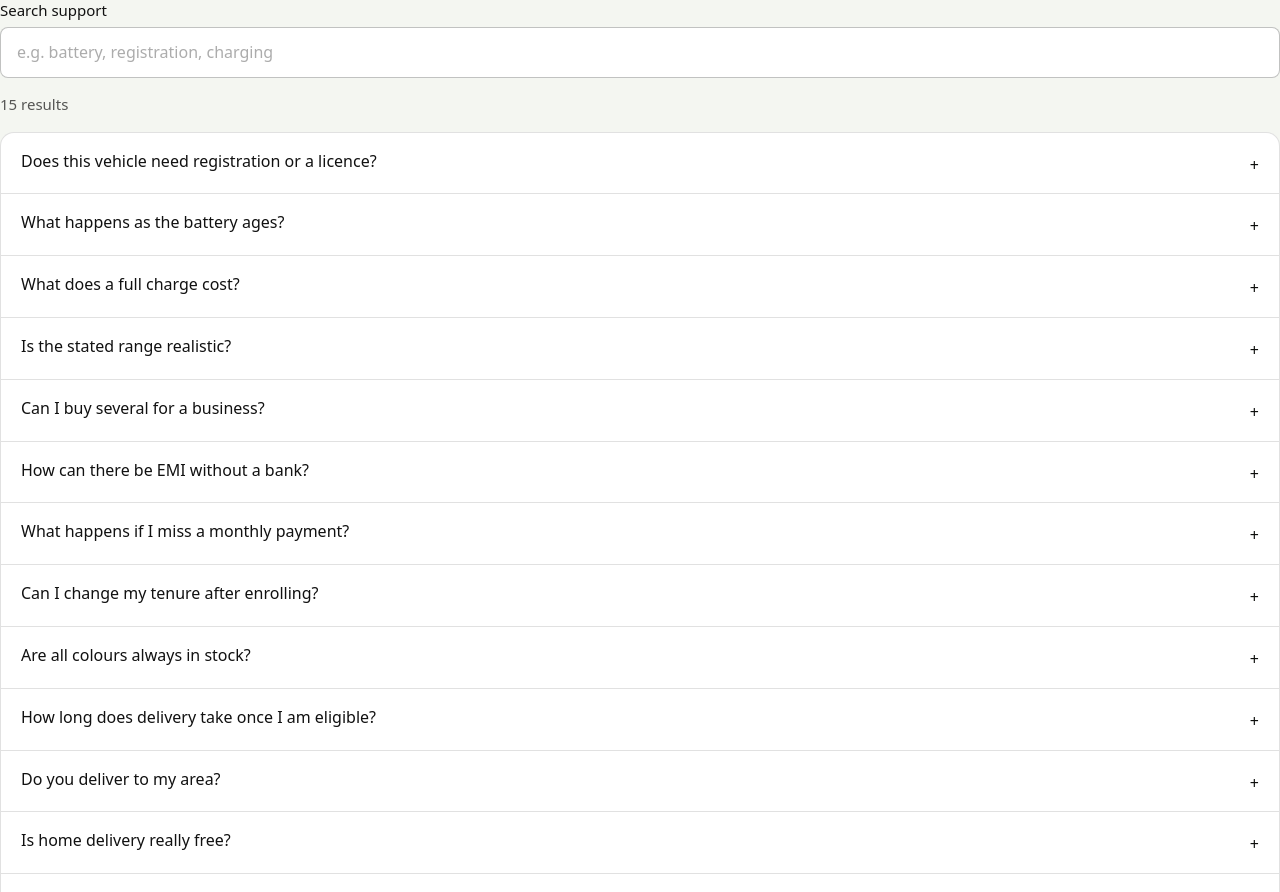
Test: FaqSearch › offers a way out when nothing matches, rather than a blank panel
The width and height of the screenshot is (1280, 892).
Step 1. Type "zzzzqqq" into the search field → point(640, 53), box [0, 27, 1279, 78]
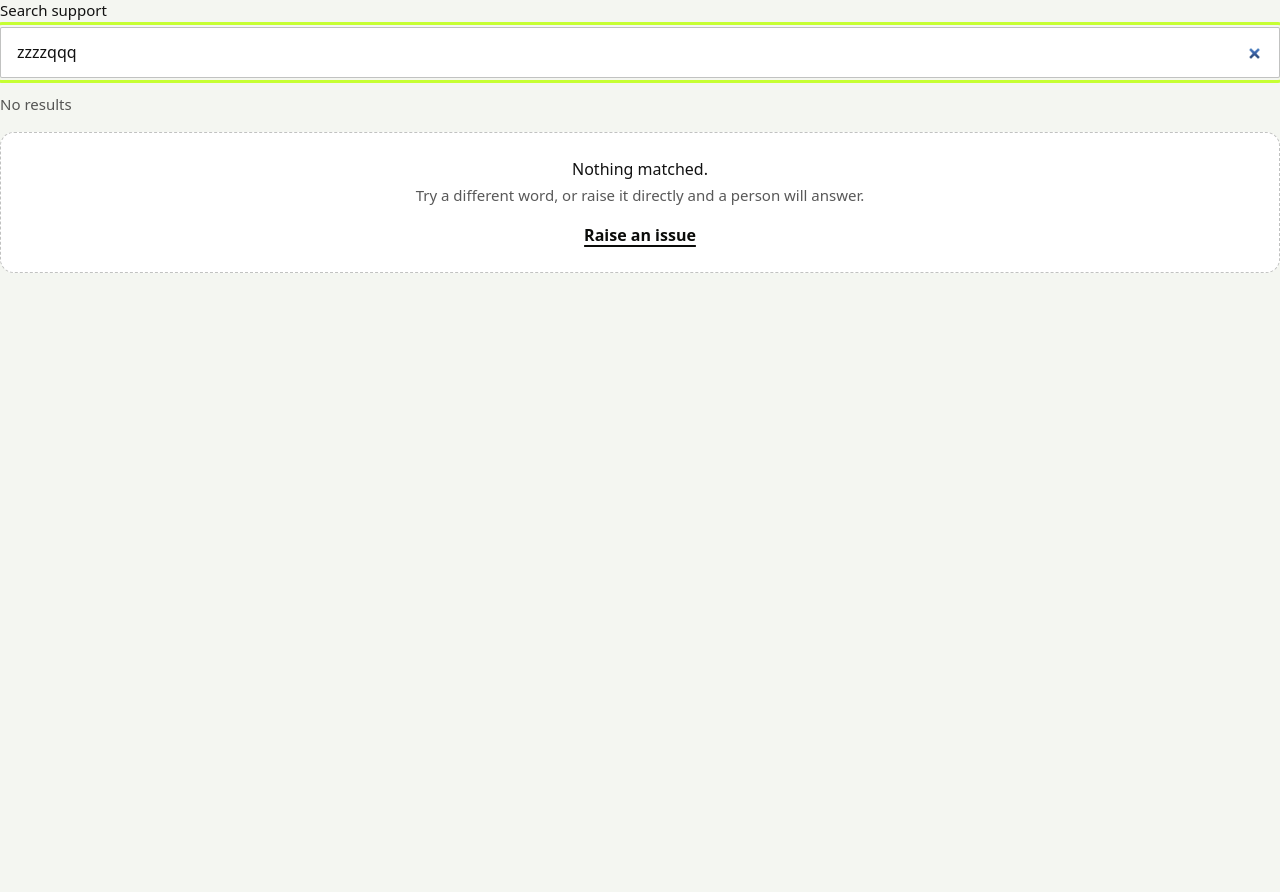
Result: the text "Nothing matched." is shown at [572, 158, 708, 180]
Result: the link "Raise an issue" is shown at [584, 223, 696, 248]
